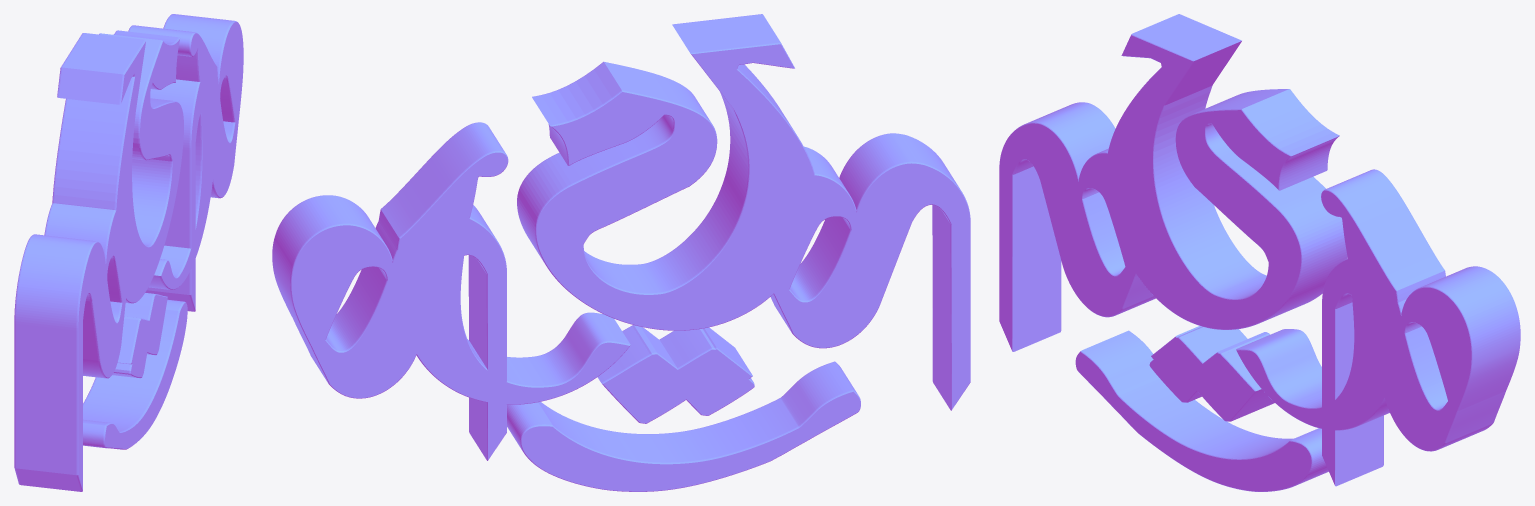
File: 3d-full-holo.gltf
The picture shows the model from 3 angles, left to right: view 1: azimuth 30°, elevation 25°; view 2: azimuth 150°, elevation 25°; view 3: azimuth 270°, elevation 25°; orthographic projection. The views are drawn at different scales.
Parts seen in each view (by area): view 1: d76dd03f-15b2-4cd4-879f-8a285b40db1e; view 2: d76dd03f-15b2-4cd4-879f-8a285b40db1e; view 3: d76dd03f-15b2-4cd4-879f-8a285b40db1e.
Part boxes in pixels (x1,y1,x2,y2): d76dd03f-15b2-4cd4-879f-8a285b40db1e: (14, 14, 243, 491); d76dd03f-15b2-4cd4-879f-8a285b40db1e: (272, 14, 970, 491); d76dd03f-15b2-4cd4-879f-8a285b40db1e: (999, 14, 1520, 491).
Bounding box in the file's own units: 44.56 × 38.96 × 44.56.
